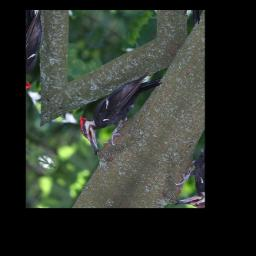Woodpecker: (67, 51, 165, 164)
